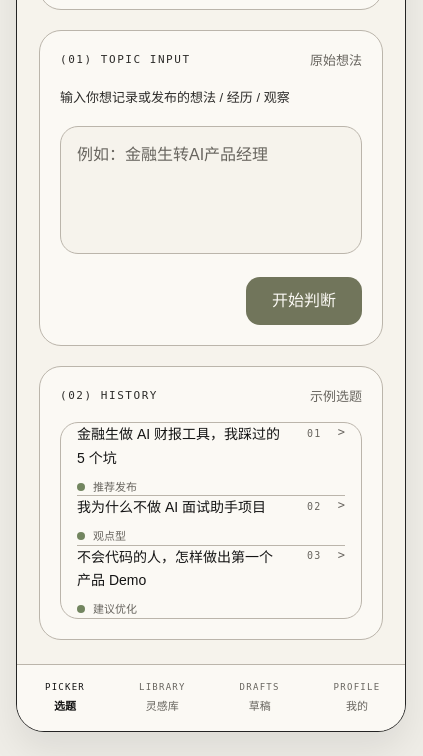
Scenario: TopicPilotApp › requests fresh library ideas when entering the library tab and uses the generated results
(page scrolled)
Click the button "LIBRARY 灵感库" at (162, 698), box x1=130 y1=681 x2=194 y2=715
(page scrolled)
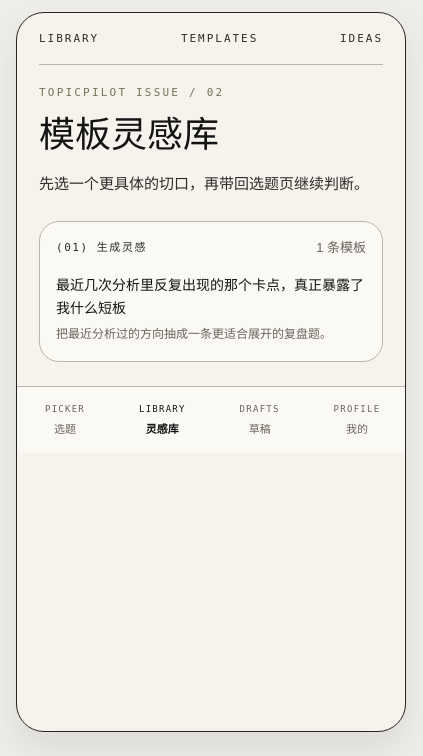
Expected: the text "最近几次分析里反复出现的那个卡点，真正暴露了我什么短板" is shown, x1=56 y1=274 x2=366 y2=321
Click the button "最近几次分析里反复出现的那个卡点，真正暴露了我什么短板 把最近分析过的方向抽成一条更适合展开的复盘题。" at (210, 284), box x1=56 y1=274 x2=366 y2=344
(page scrolled)
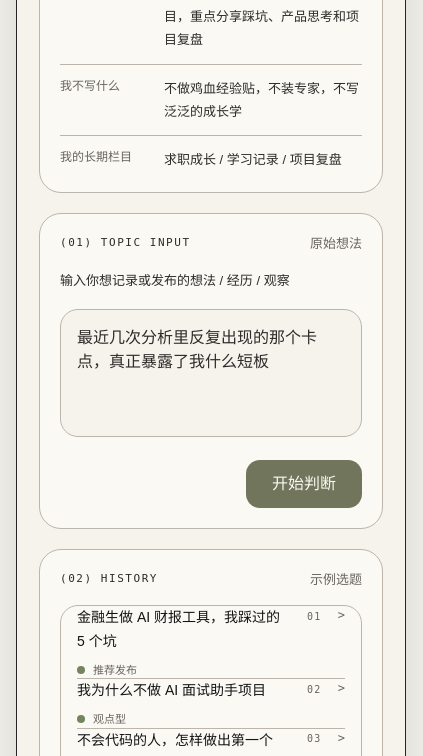
Expected: the text box holds "最近几次分析里反复出现的那个卡点，真正暴露了我什么短板", x1=60 y1=309 x2=362 y2=437
